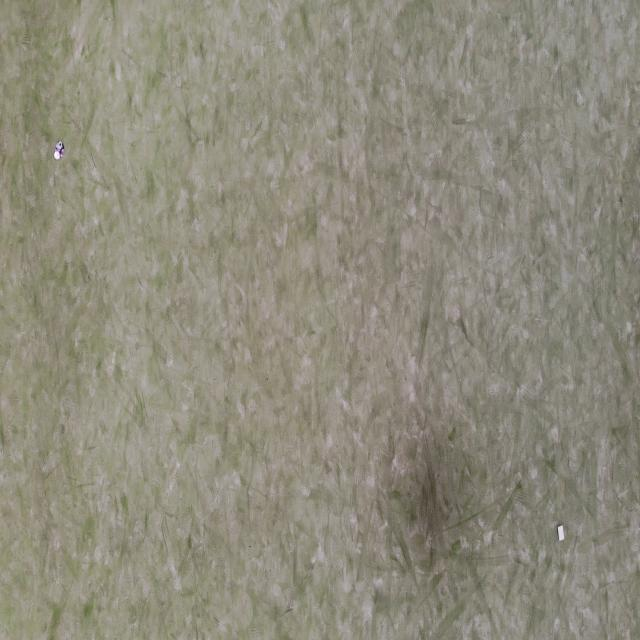rubbish: (54, 139, 64, 161), (556, 525, 565, 542)
